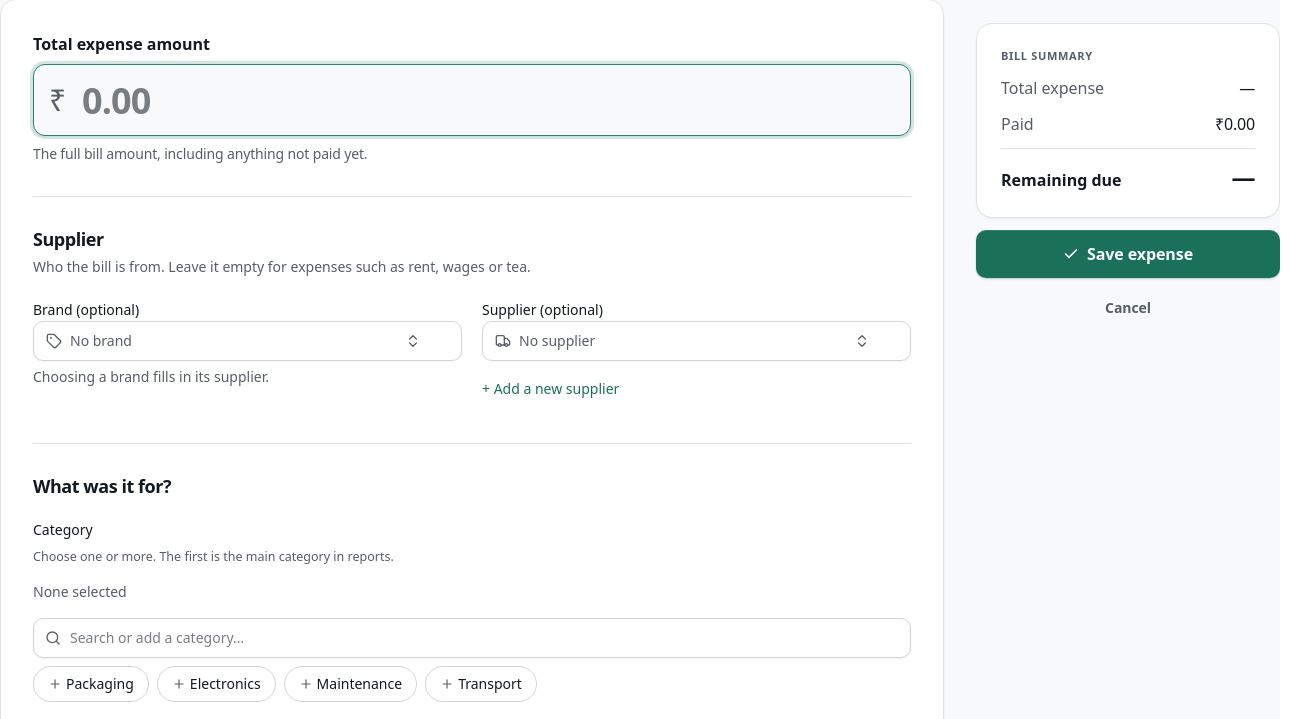
Test: ExpenseForm: optional description › still requires at least one category
Type "90" into the field labelled "Total expense amount".
click(472, 100); type("90")  # box [33,64,911,136]
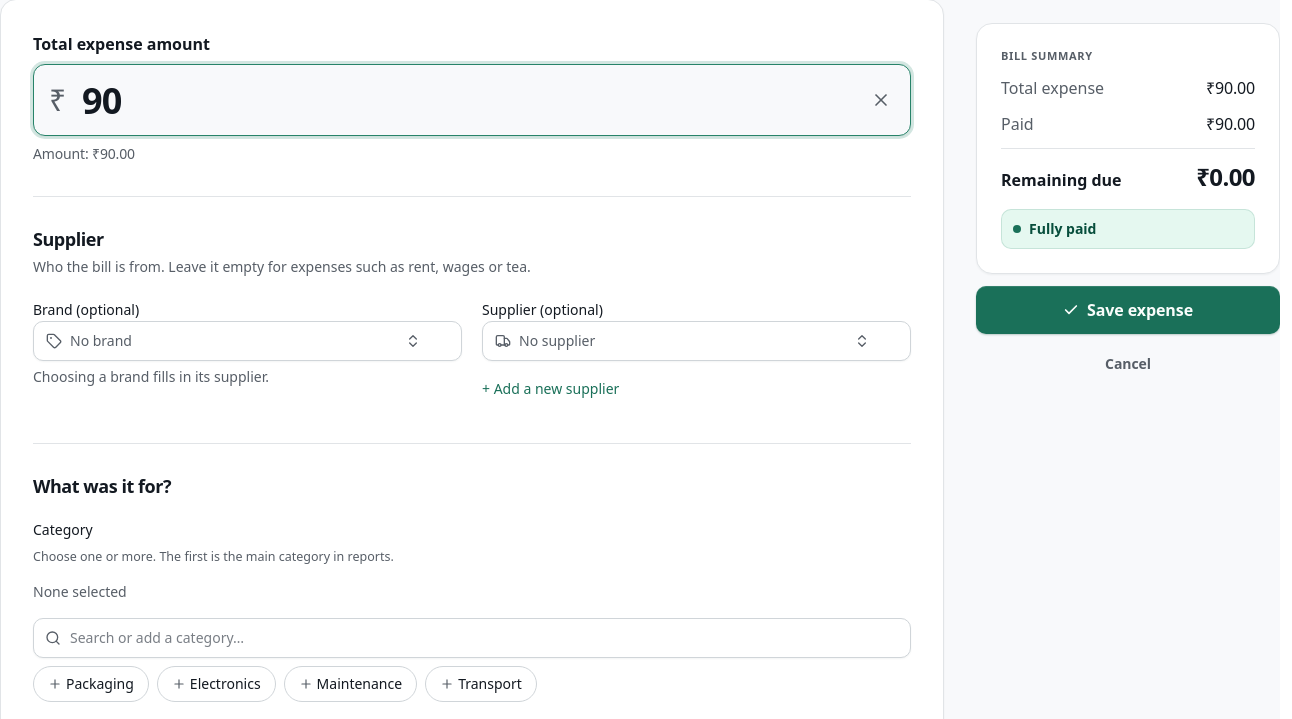
Click the button "Save expense".
click(1128, 310)  # box [976,286,1280,334]
(page scrolled)
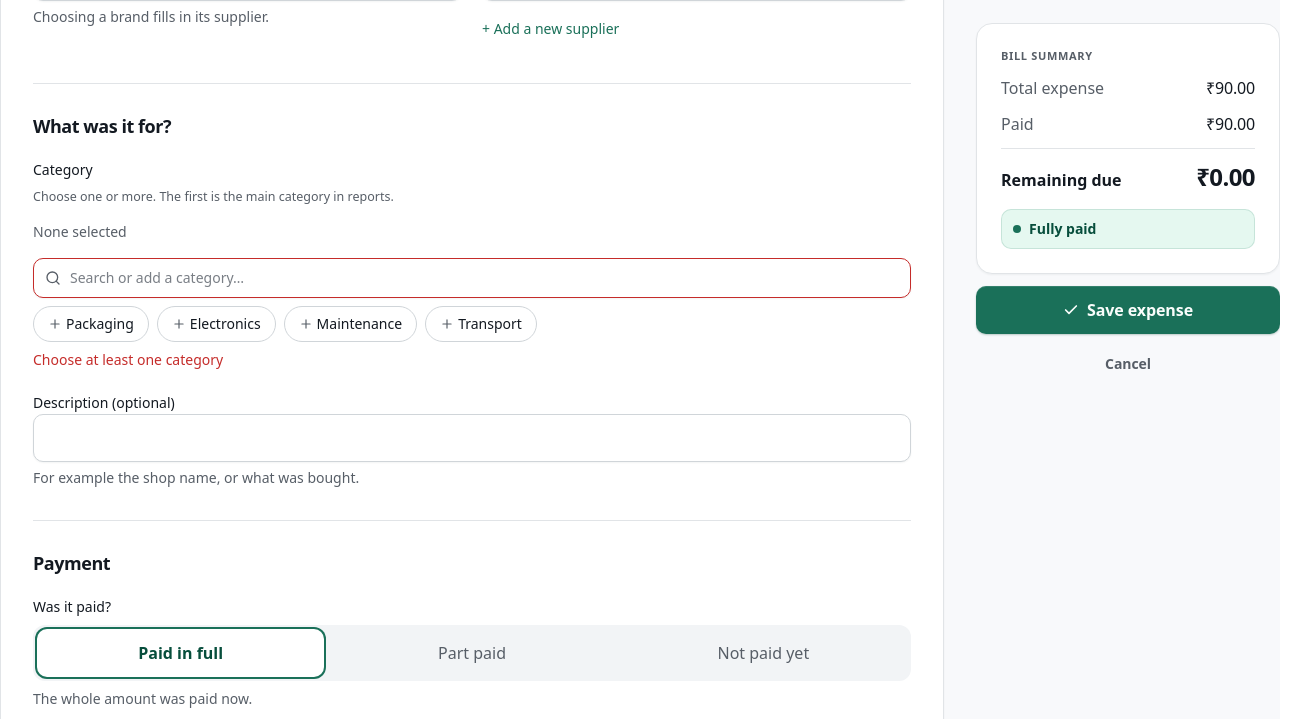
Expected: the text "Choose at least one category" is shown, [33,350,223,369]
